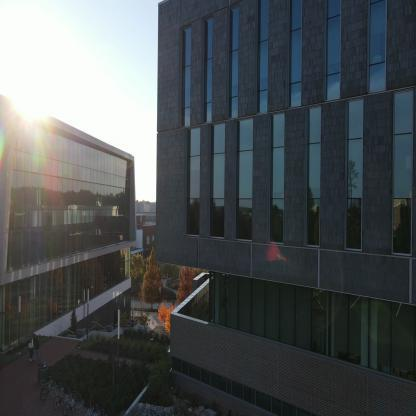Fitts- Woolard: (156, 0, 415, 415)
Hunt Library: (0, 121, 146, 350)
